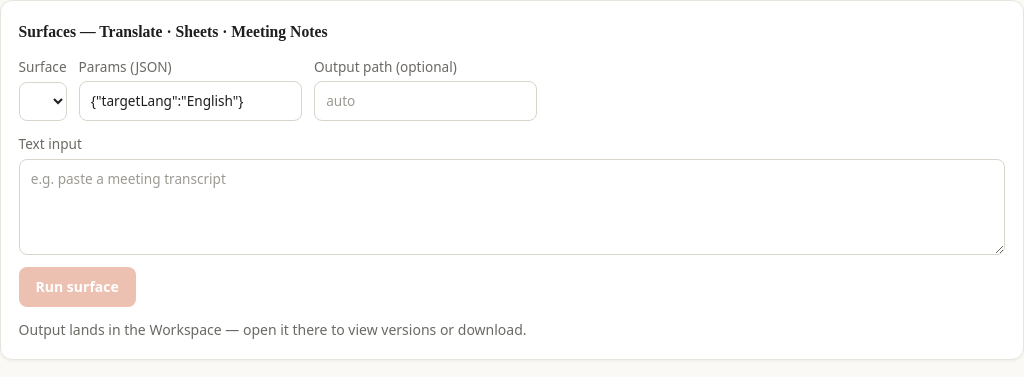
Test: Surfaces page › runs a text surface and reports the produced file
Expected: the heading "Surfaces — Translate · Sheets · Meeting Notes" is shown, [19,19,328,44]
Type "Alice: ship it" into the text box with placeholder "e.g. paste a meeting transcript". click: (512, 207)
box: [19,159,1005,255]
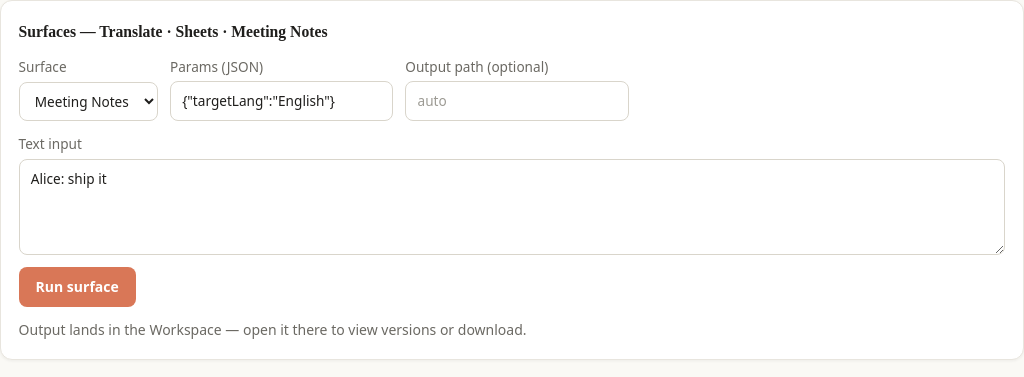
Click the button "Run surface". click: (77, 287)
box: [19,267,136,307]
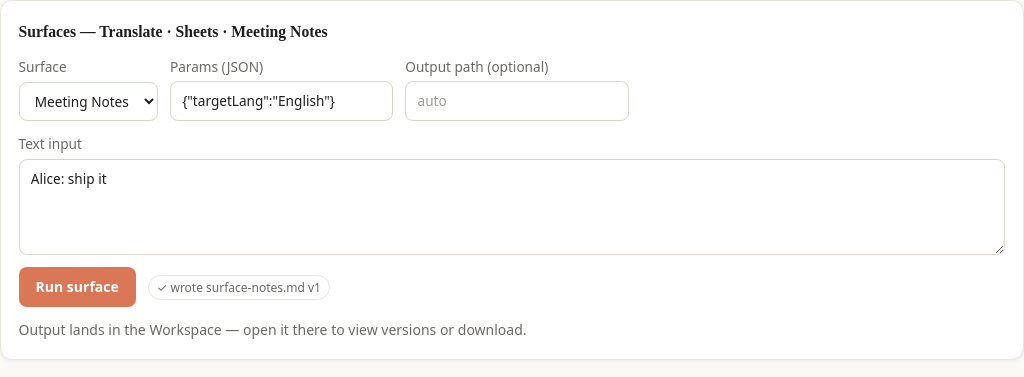
Result: the text "✓ wrote surface-notes.md v1" is shown at [148,275,330,300]
